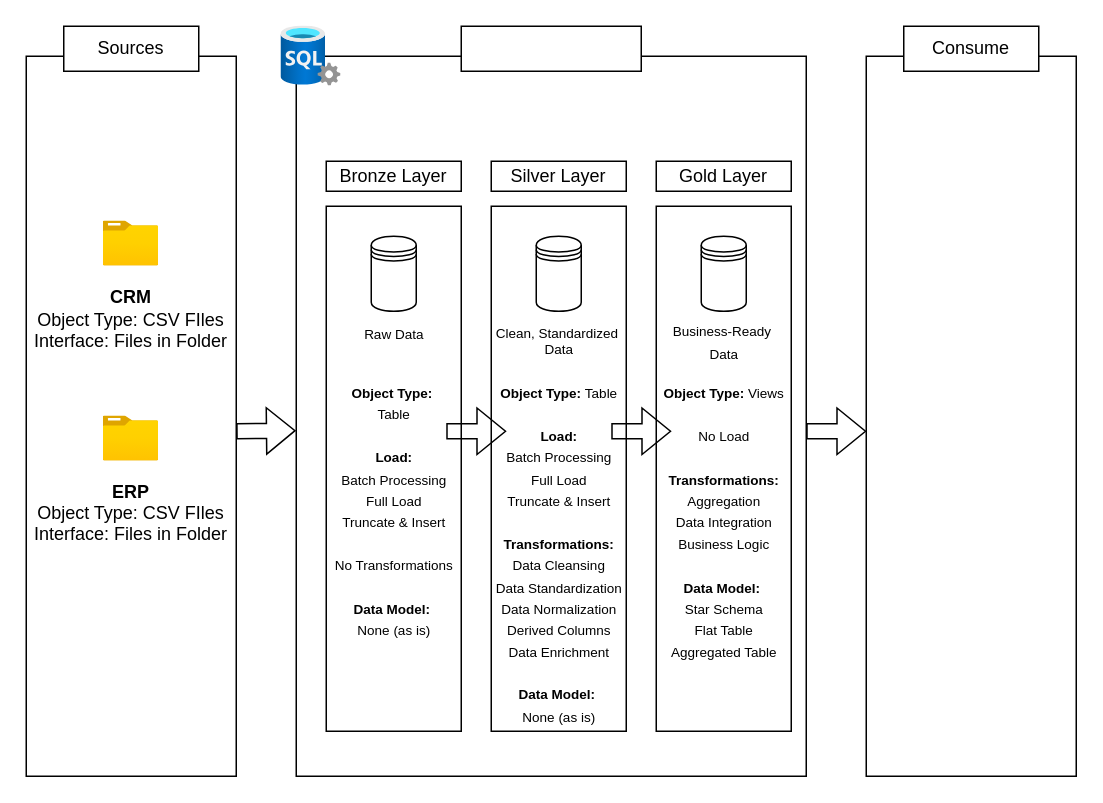
Image size: 1103x803. Some labels were removed from this diagram. Each missing label, with the centre of its shape:
BI & Reporting Ad Hoc SQL Queries Machine Learning: (970,415)
Data Warehouse: (550,48)
